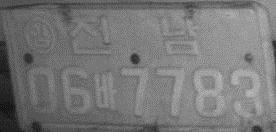0: (26, 66, 59, 113)
3: (229, 68, 262, 121)
6: (61, 66, 92, 116)
7: (120, 65, 149, 117), (156, 64, 184, 117)
8: (192, 67, 225, 118)
바: (93, 71, 118, 111)
영: (22, 17, 58, 55)
전남_D: (66, 13, 201, 56)
